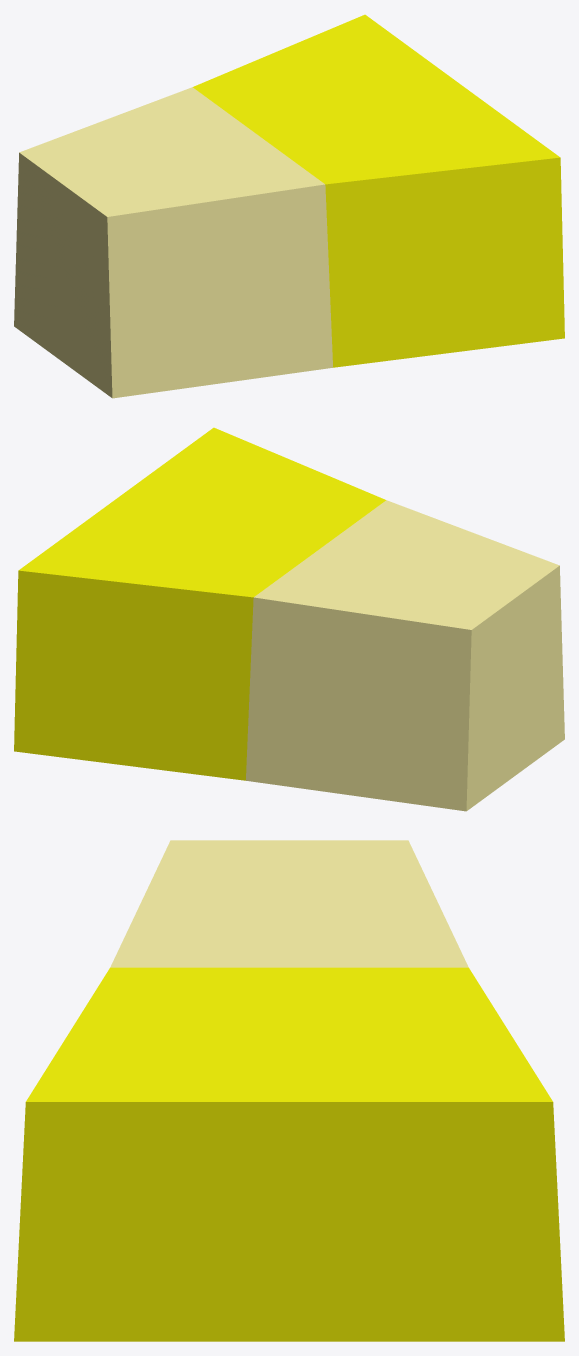
File: corn06.gltf
3 views of the same model, one above another, from view 1: azimuth 30°, elevation 25°; view 2: azimuth 150°, elevation 25°; view 3: azimuth 270°, elevation 25° (orthographic). The views are drawn at different scales.
Parts seen in each view (by area): view 1: Cylinder; view 2: Cylinder; view 3: Cylinder.
Boxes of the visible parts, box(x1,y1,x2,y2) form: Cylinder: box(14, 14, 564, 398); Cylinder: box(14, 427, 564, 811); Cylinder: box(14, 840, 564, 1341).
Bounding box in the file's own units: 0.0151 × 0.00646 × 0.0134.
1 material, 1 textured.
